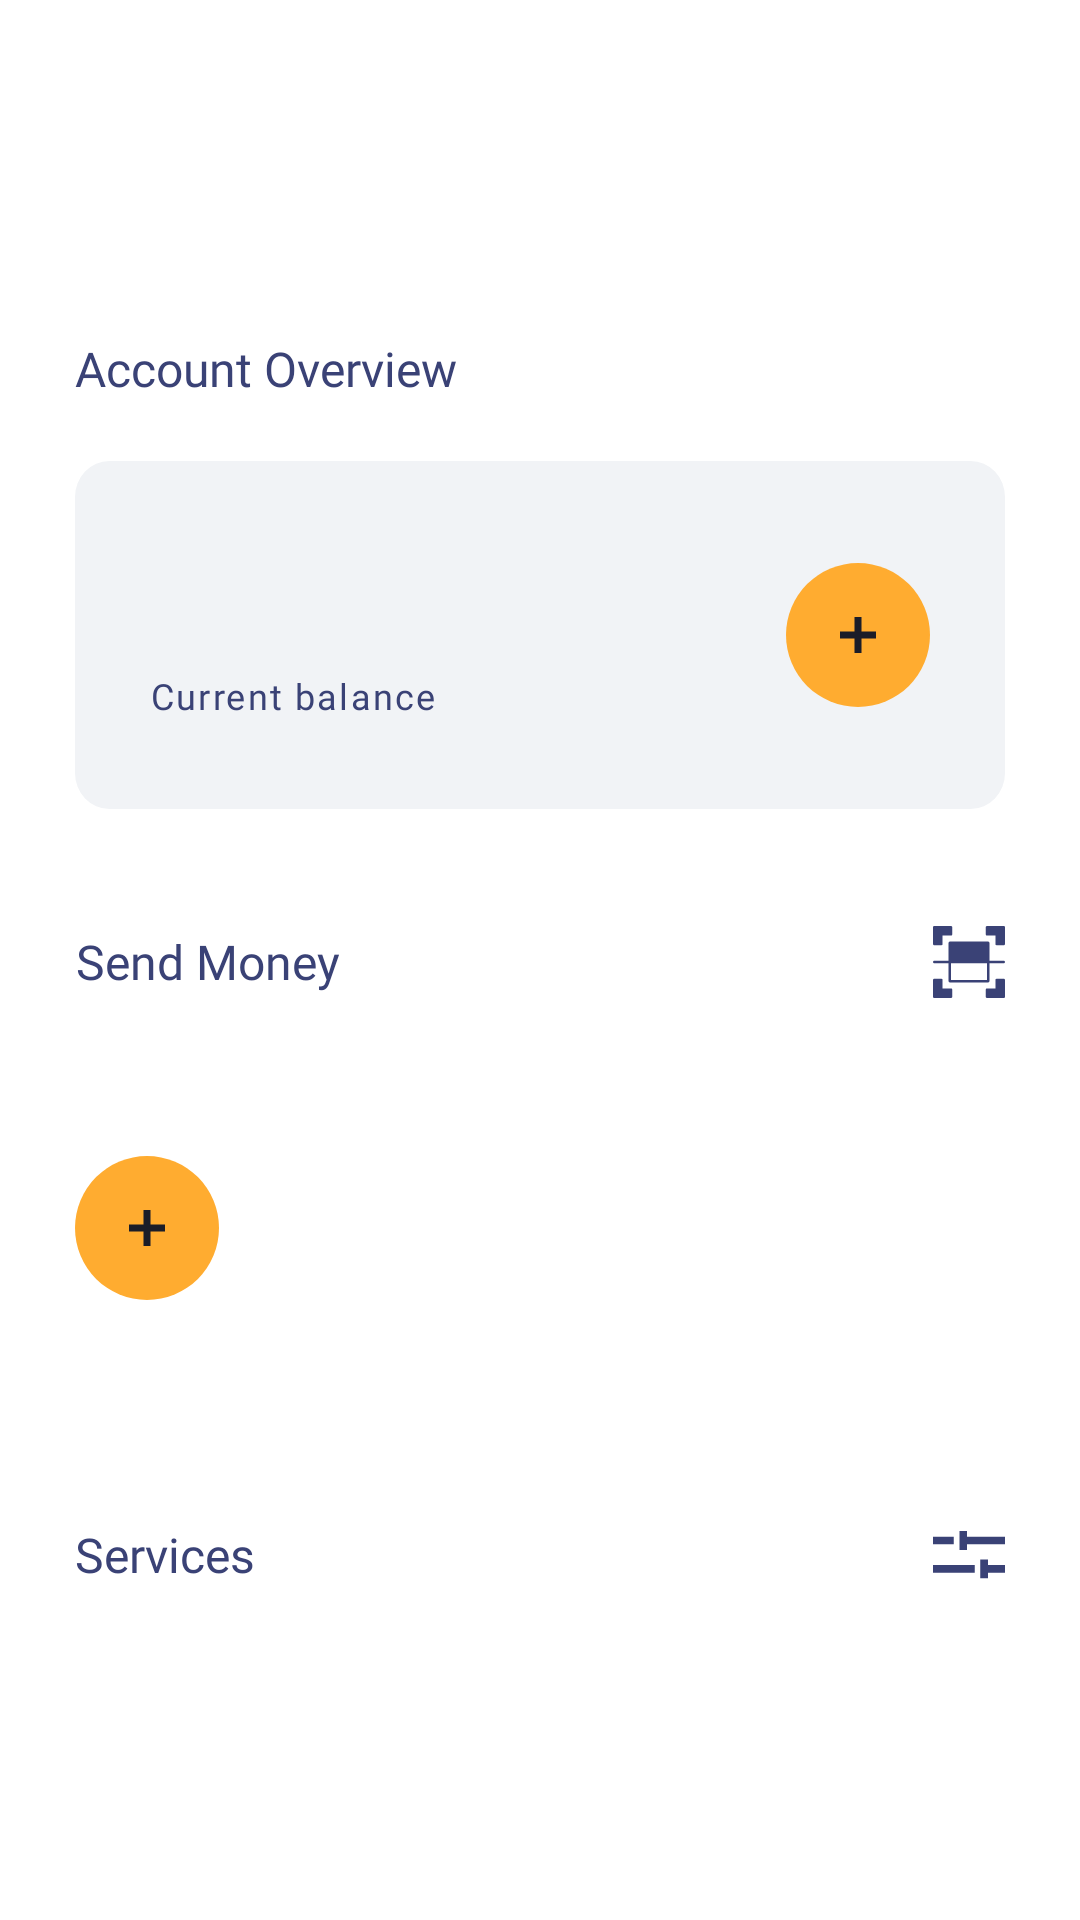

Screen size 1080px x 1920px. Icon name, then its center in pixels as [x,y]:
add: [858,635], [147,1228]
filter: [969,1555]
scanner: [969,962]
